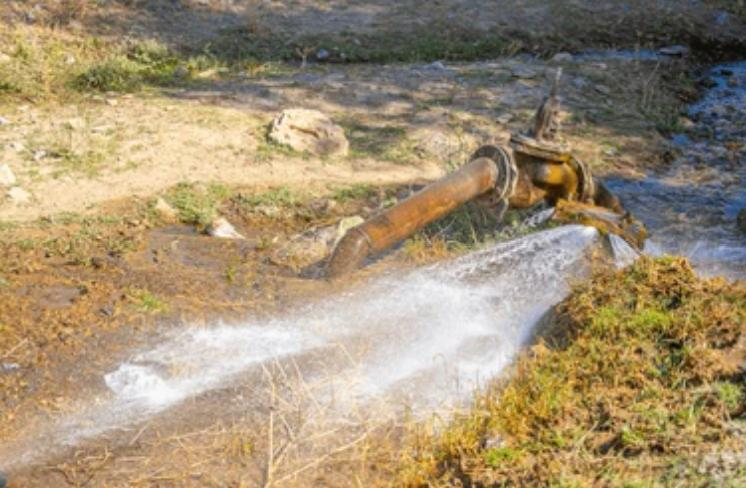pipe burst: (125, 220, 632, 418)
water accumulation: (600, 61, 746, 289)
